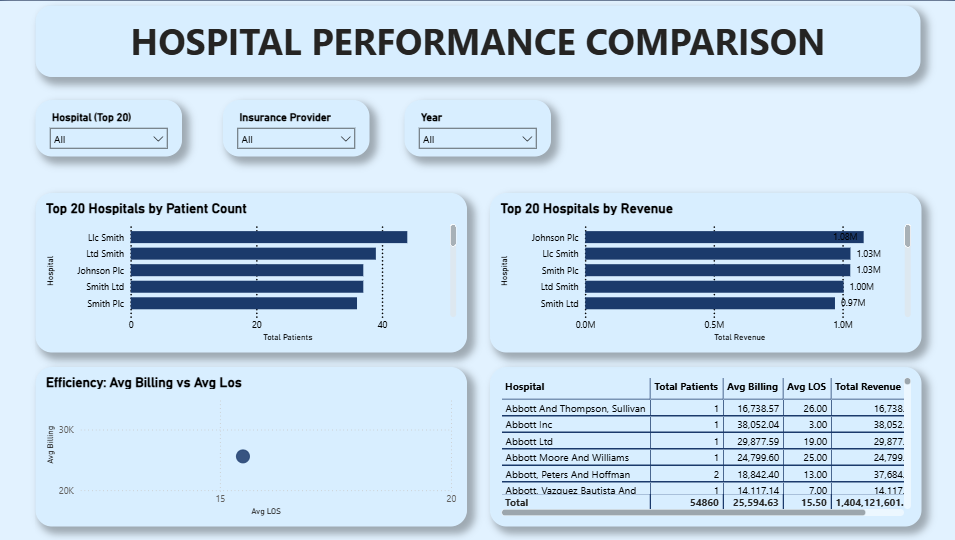

The page's visual inventory and layout, read from the dashboard file:
{"tool":"powerbi","page":{"name":"Page 5","canvas":[1280,720],"ordinal":4},"visuals":[{"type":"barChart","title":"Top 20 Hospitals by Patient Count","fields":{"Y":["healthcare_final_clean.Total Patients"],"Category":["healthcare_final_clean.hospital"]},"box":[50,255,575,212.5],"z":0},{"type":"slicer","fields":{"Values":["healthcare_final_clean.hospital"]},"box":[50,132,195,75],"z":1000},{"type":"slicer","fields":{"Values":["healthcare_final_clean.insurance_provider"]},"box":[300,132.5,195,75],"z":2000},{"type":"slicer","fields":{"Values":["healthcare_final_clean.admission_date.Variation.Date Hierarchy.Year","healthcare_final_clean.admission_date.Variation.Date Hierarchy.Quarter","healthcare_final_clean.admission_date.Variation.Date Hierarchy.Month","healthcare_final_clean.admission_date.Variation.Date Hierarchy.Day"]},"box":[542.5,132.5,195,75],"z":3000},{"type":"textbox","box":[50,5,1180,95],"z":4000},{"type":"tableEx","title":"Condition & Gender by Age Group","fields":{"Values":["healthcare_final_clean.hospital","healthcare_final_clean.Total Patients","healthcare_final_clean.Avg Billing","healthcare_final_clean.Avg LOS","healthcare_final_clean.Total Revenue","healthcare_final_clean.Length of Stay"]},"box":[655,487.5,575,212.5],"z":5000},{"type":"clusteredBarChart","title":"Top 20 Hospitals by Revenue","fields":{"Category":["healthcare_final_clean.hospital"],"Y":["healthcare_final_clean.Total Revenue"]},"box":[655,255,575,212.5],"z":6000},{"type":"scatterChart","title":"Efficiency: Avg Billing vs Avg Los","fields":{"X":["healthcare_final_clean.Avg LOS"],"Y":["healthcare_final_clean.Avg Billing"],"Size":["healthcare_final_clean.Total Patients"]},"box":[50,487.5,575,212.5],"z":7000}]}

Visuals, with their boxes in screenshot pixels (x1, y1, x2, y2), scaled from the page's 1280x720 canvas onto the 955x540 screenshot:
"Top 20 Hospitals by Patient Count" barChart: 37,191,466,351
slicer - healthcare_final_clean.hospital: 37,99,183,155
slicer - healthcare_final_clean.insurance_provider: 224,99,369,156
slicer - healthcare_final_clean.admission_date.Variation.Date Hierarchy.Year x healthcare_final_clean.admission_date.Variation.Date Hierarchy.Quarter: 405,99,550,156
textbox: 37,4,918,75
"Condition & Gender by Age Group" tableEx: 489,366,918,525
"Top 20 Hospitals by Revenue" clusteredBarChart: 489,191,918,351
"Efficiency: Avg Billing vs Avg Los" scatterChart: 37,366,466,525
